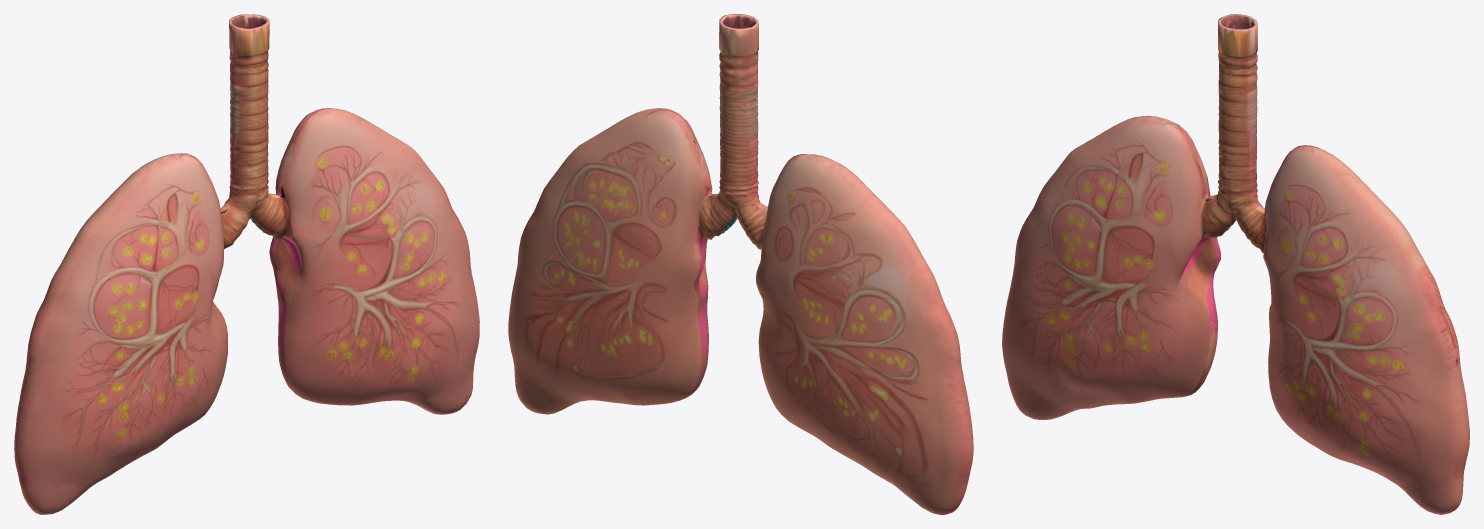
Rendered from static-lung.glb.
3 renders of one model, left to right at view 1: azimuth 30°, elevation 25°; view 2: azimuth 150°, elevation 25°; view 3: azimuth 330°, elevation 25°, orthographic.
Bounding box in the file's own units: 2 × 1.83 × 0.3283.
1 material, 1 textured.
